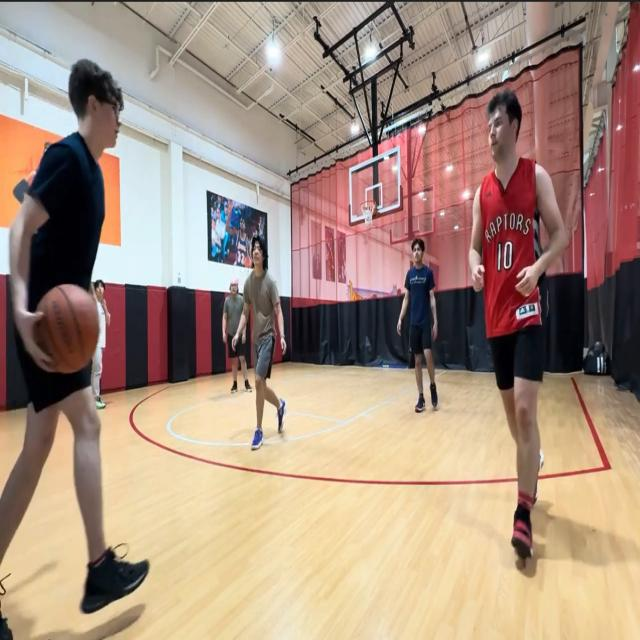Basketball: (34, 284, 101, 372)
Basketball Rim: (361, 199, 376, 226)
